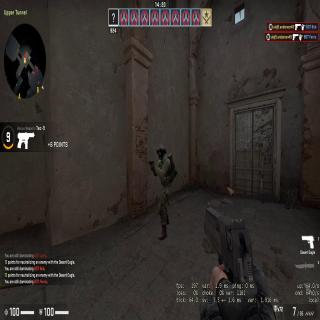CT-Body: (146, 140, 178, 227)
CT-Head: (156, 144, 166, 158)
